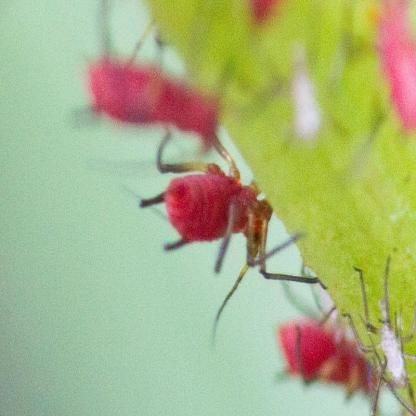aphid: (141, 135, 300, 287), (76, 28, 232, 161), (262, 263, 384, 416), (362, 259, 416, 416)
